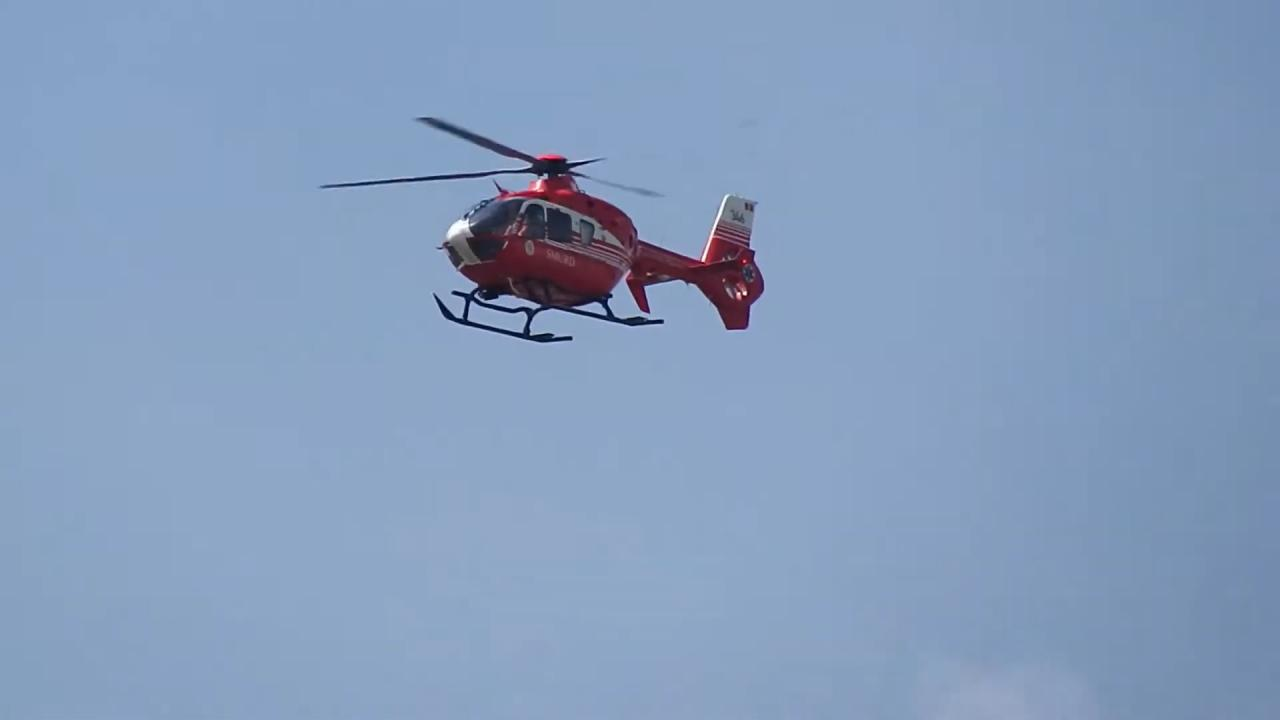Helicopter: (303, 81, 819, 384)
